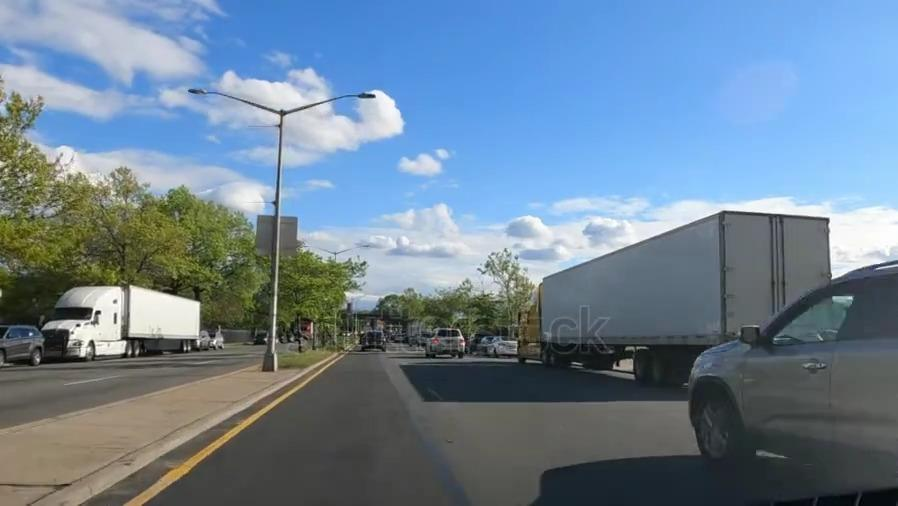car: (701, 267, 898, 466), (5, 324, 45, 370), (426, 326, 464, 362), (490, 336, 517, 355), (363, 329, 385, 352), (196, 331, 210, 352), (467, 330, 479, 353), (210, 332, 225, 349), (480, 333, 490, 355), (254, 332, 269, 345)
truck: (509, 210, 815, 355), (41, 287, 199, 358)
wheel: (690, 387, 737, 458)
